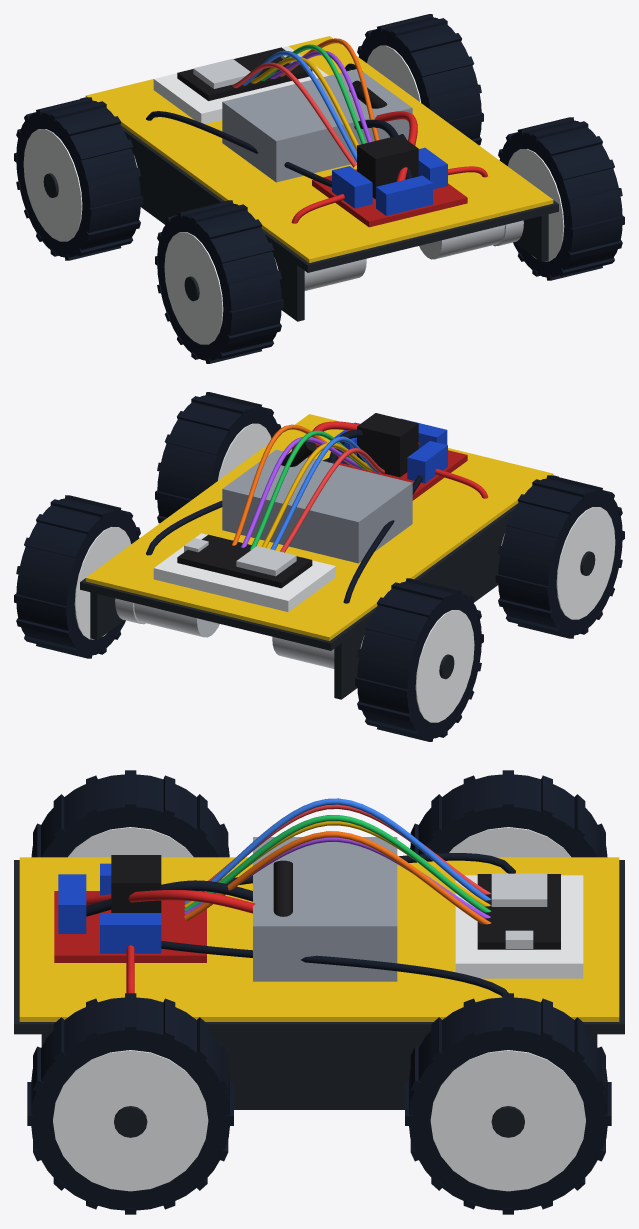
The model's file is robothon_3_bot.glb.
3 views of the same model, one above another, from view 1: azimuth 30°, elevation 25°; view 2: azimuth 150°, elevation 25°; view 3: azimuth 270°, elevation 25° (orthographic). The views are drawn at different scales.
Parts seen in each view (by area): view 1: Chassis_YellowDeck, Wheel_RL, Wheel_FL, Wheel_FR, Battery_Assembly, Wheel_RR, L298N_Assembly, Wires_Harness, ESP32_Assembly, Chassis_Flange_Left, Chassis_BasePlate, Motor_FR (+2 smaller); view 2: Chassis_YellowDeck, Wheel_FL, Wheel_RL, Wheel_RR, Battery_Assembly, Wheel_FR, ESP32_Assembly, Wires_Harness, L298N_Assembly, Chassis_Flange_Left, Chassis_BasePlate, Motor_RR (+2 smaller); view 3: Chassis_YellowDeck, Wheel_FR, Wheel_RR, Battery_Assembly, Wires_Harness, Chassis_Flange_Right, Wheel_FL, Wheel_RL, ESP32_Assembly, L298N_Assembly, Chassis_BasePlate.
Boxes of the visible parts, x1,y1,x2,y2 form: Chassis_YellowDeck: (85,36,553,262); Wheel_RL: (14,97,143,260); Wheel_FL: (155,200,283,363); Wheel_FR: (498,117,624,280); Battery_Assembly: (222,69,412,182); Wheel_RR: (357,14,483,145); L298N_Assembly: (312,135,467,227); Wires_Harness: (146,38,487,223); ESP32_Assembly: (153,46,328,123); Chassis_Flange_Left: (127,137,304,321); Chassis_BasePlate: (80,97,558,272); Motor_FR: (419,220,523,259); Chassis_YellowDeck: (85,414,553,640); Wheel_FL: (495,475,624,638); Wheel_RL: (355,578,483,741); Wheel_RR: (14,495,140,658); Battery_Assembly: (222,441,412,563); Wheel_FR: (155,392,281,523); ESP32_Assembly: (153,533,335,612); Wires_Harness: (146,421,487,603); L298N_Assembly: (334,413,467,500); Chassis_Flange_Left: (334,515,511,699); Chassis_BasePlate: (80,475,558,650); Motor_RR: (115,598,219,637); Chassis_YellowDeck: (19,857,619,1021); Wheel_FR: (27,993,233,1214); Wheel_RR: (405,993,611,1214); Battery_Assembly: (253,837,397,981); Wires_Harness: (86,798,515,996); Chassis_Flange_Right: (41,1029,597,1109); Wheel_FL: (31,770,229,857); Wheel_RL: (410,770,607,857); ESP32_Assembly: (455,873,583,978); L298N_Assembly: (54,855,206,962); Chassis_BasePlate: (14,860,624,1034).
Bounding box in the file's own units: 2.22 × 1.09 × 2.2.
